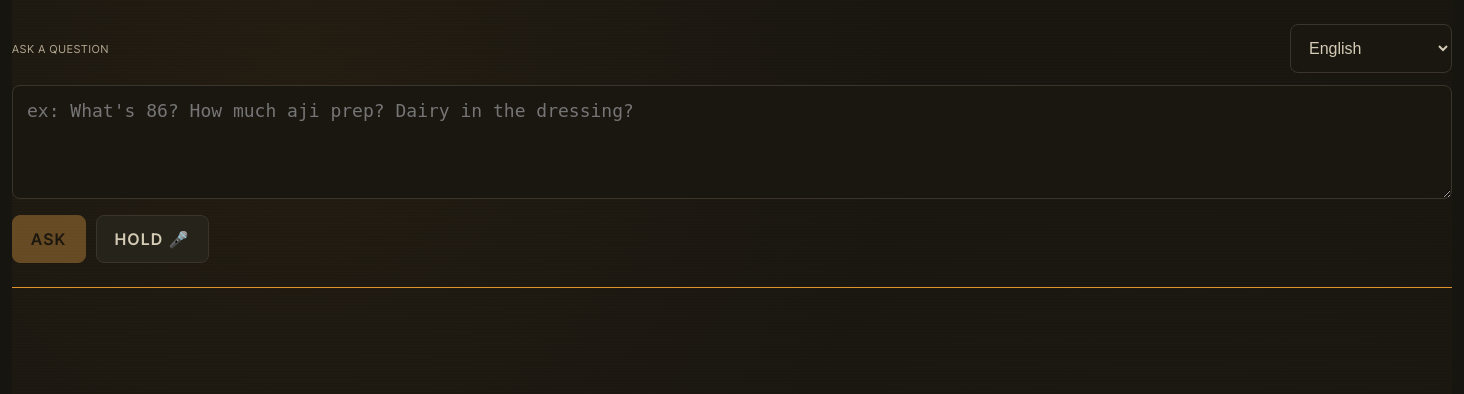
recovers from a speech-recognition start fault so hold-to-talk can start again
This screenshot has width=1464, height=394.
Press the mouse on the button with aria-label "start voice input" at (152, 239), box [96, 215, 209, 263]
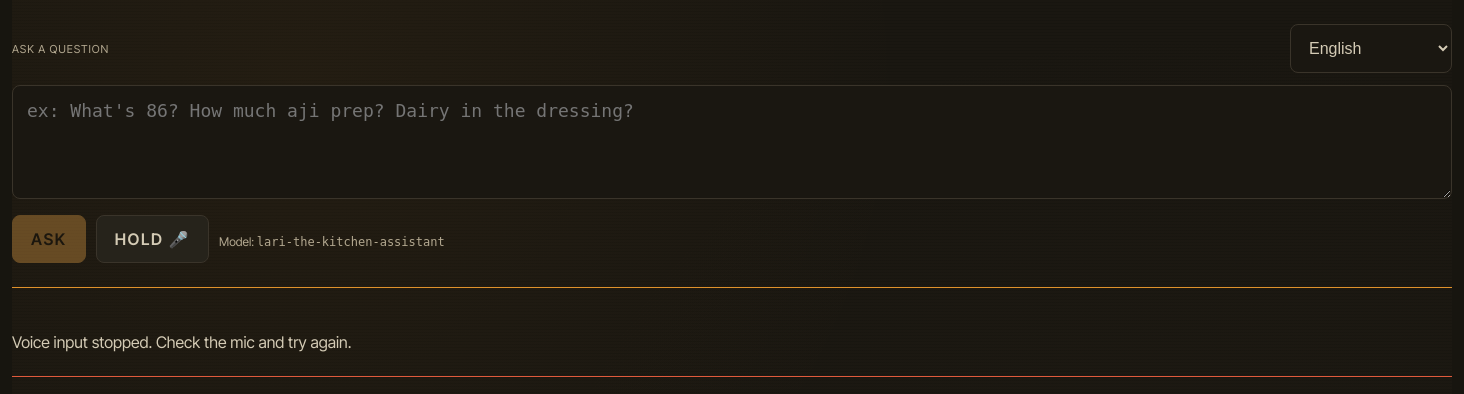
Press the mouse on the button with aria-label "start voice input" at (152, 239), box [96, 215, 209, 263]
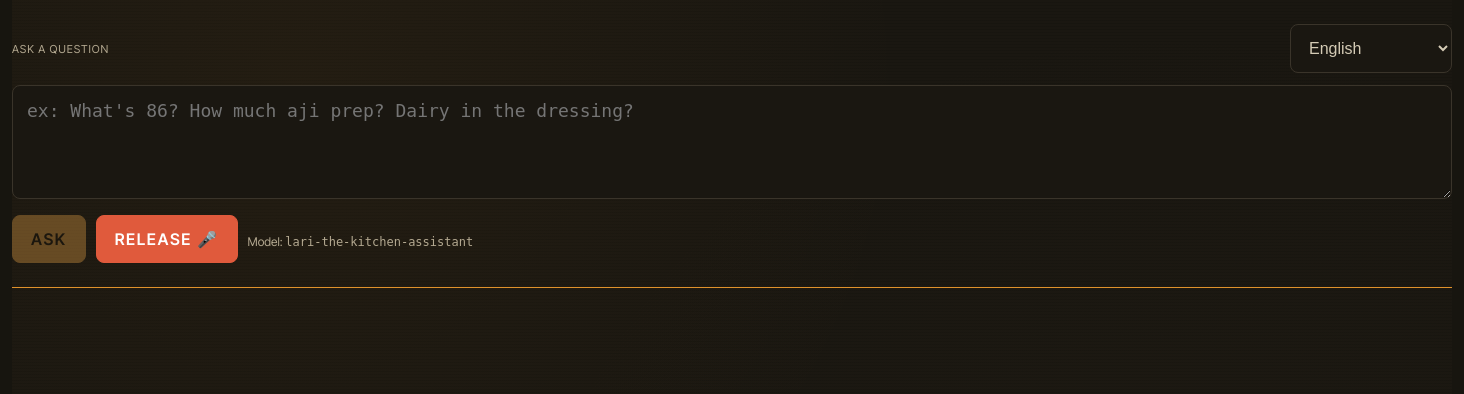
Result: the button with aria-label "stop voice input" is shown at [96, 215, 238, 263]
